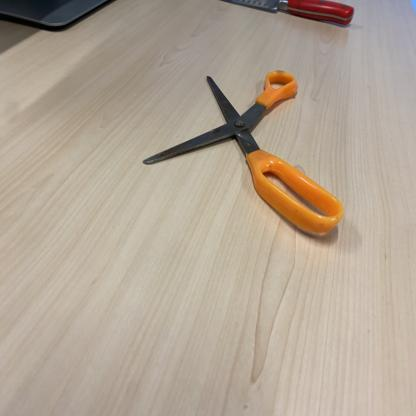Knife: (203, 0, 358, 31)
scissors: (143, 71, 347, 241)
